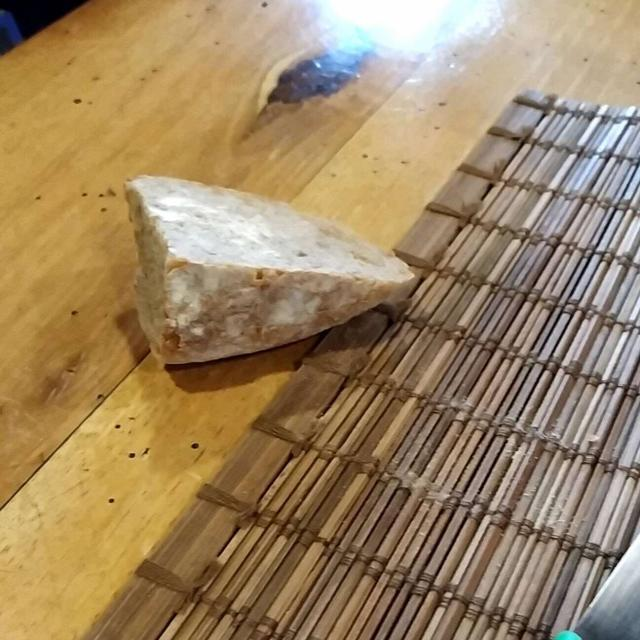bread: (130, 182, 409, 365)
butter: (148, 182, 284, 270)
